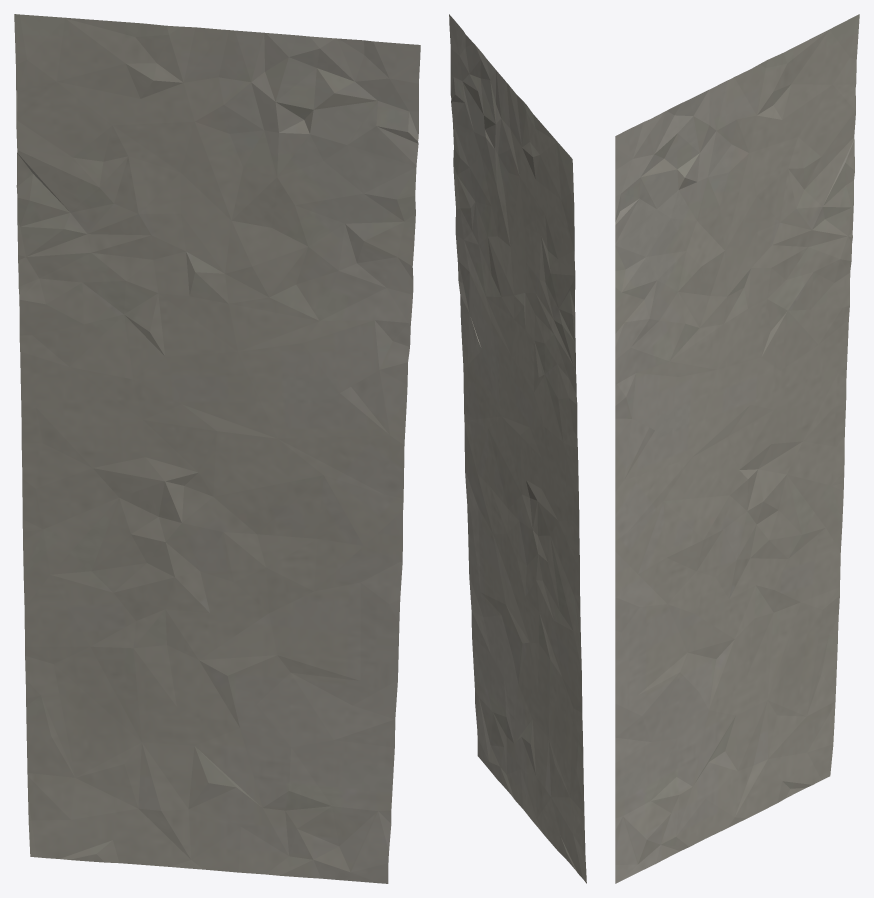
The picture shows the model from 3 angles, left to right: view 1: azimuth 30°, elevation 25°; view 2: azimuth 150°, elevation 25°; view 3: azimuth 270°, elevation 25°; orthographic projection. The views are drawn at different scales.
Size of the model in its own units: 0.576 by 1.67 by 0.4871.
Materials: 1 (1 with a texture image).
